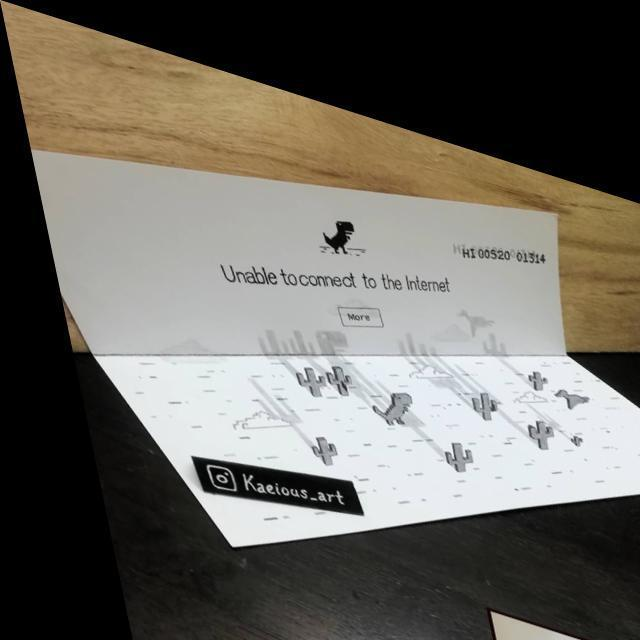-: (138, 96, 634, 542)
